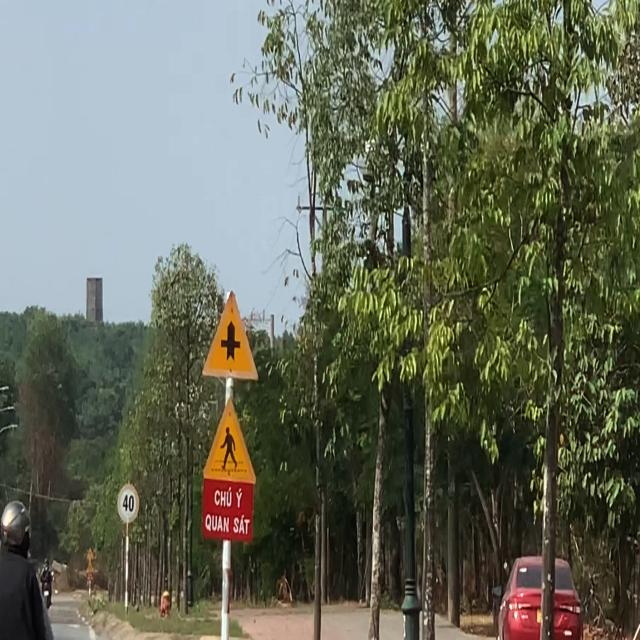Giao voi duong khong uu tien: (199, 284, 262, 386)
Nguoi di bo cat ngang: (198, 389, 260, 489)
Toc do toi da: (116, 484, 141, 524)
